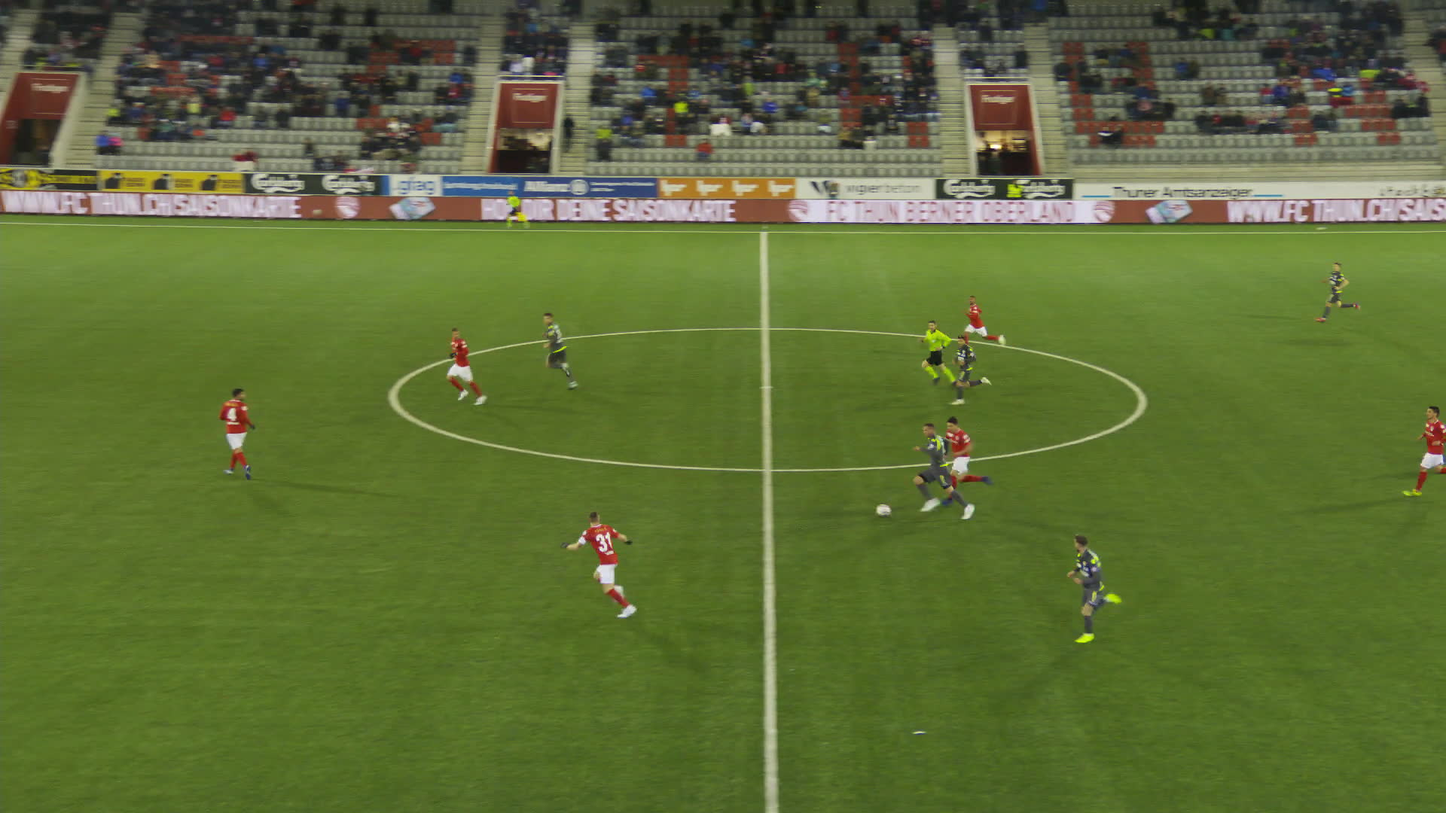ball: (876, 502, 891, 516)
player: (564, 507, 644, 618), (1064, 529, 1124, 641), (914, 419, 979, 517), (211, 387, 257, 481), (1401, 403, 1445, 498), (436, 327, 486, 407), (945, 416, 990, 504), (533, 309, 579, 391), (950, 293, 1001, 356), (946, 334, 987, 405), (1316, 260, 1355, 321)
referee: (917, 318, 960, 390), (497, 188, 524, 229)
